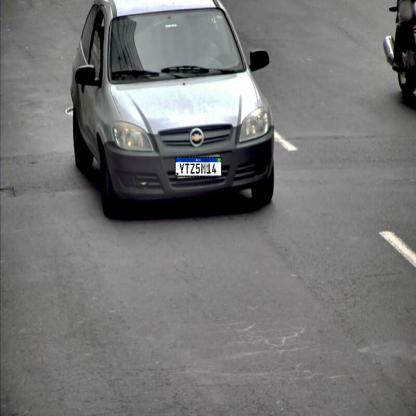PlacaM: (175, 156, 222, 177)
